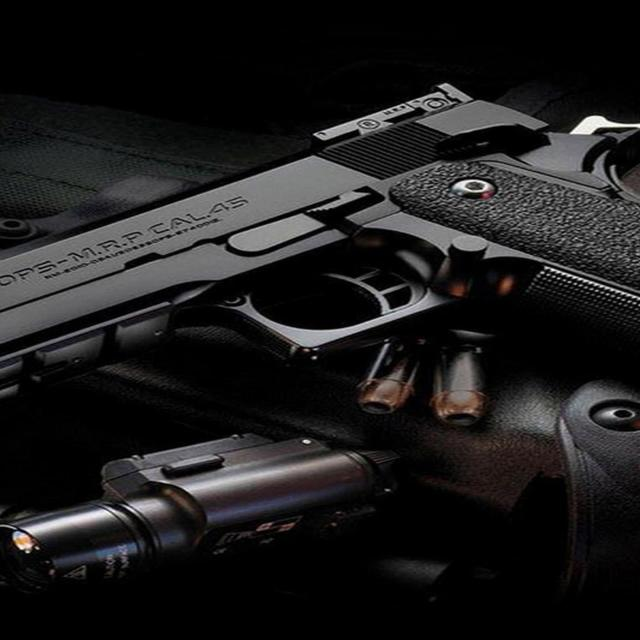handgun: (0, 89, 640, 404)
